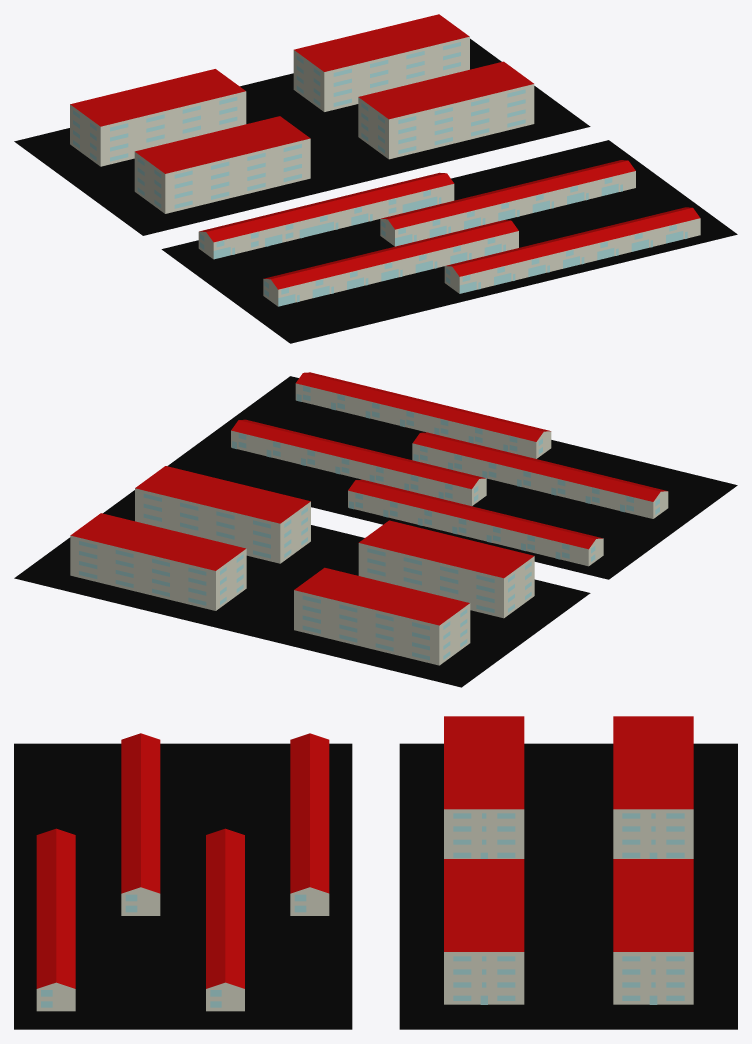
3 views of the same model, one above another, from view 1: azimuth 30°, elevation 25°; view 2: azimuth 150°, elevation 25°; view 3: azimuth 270°, elevation 25° (orthographic). The views are drawn at different scales.
Parts seen in each view (by area): view 1: Ground, Walls, Roofs, Windows; view 2: Ground, Walls, Roofs, Windows; view 3: Ground, Roofs, Walls, Windows.
Part boxes in pixels (left/top/right/bottom): Ground: left=14, top=38, right=737, bottom=343; Walls: left=70, top=36, right=700, bottom=306; Roofs: left=70, top=14, right=700, bottom=289; Windows: left=73, top=42, right=687, bottom=306; Ground: left=14, top=376, right=737, bottom=687; Walls: left=70, top=383, right=668, bottom=665; Roofs: left=70, top=372, right=667, bottom=625; Windows: left=79, top=386, right=659, bottom=660; Ground: left=14, top=743, right=737, bottom=1029; Roofs: left=36, top=716, right=693, bottom=988; Walls: left=36, top=809, right=693, bottom=1011; Windows: left=41, top=813, right=684, bottom=1007.
Size of the model in its own units: 142 by 12.19 by 152.
